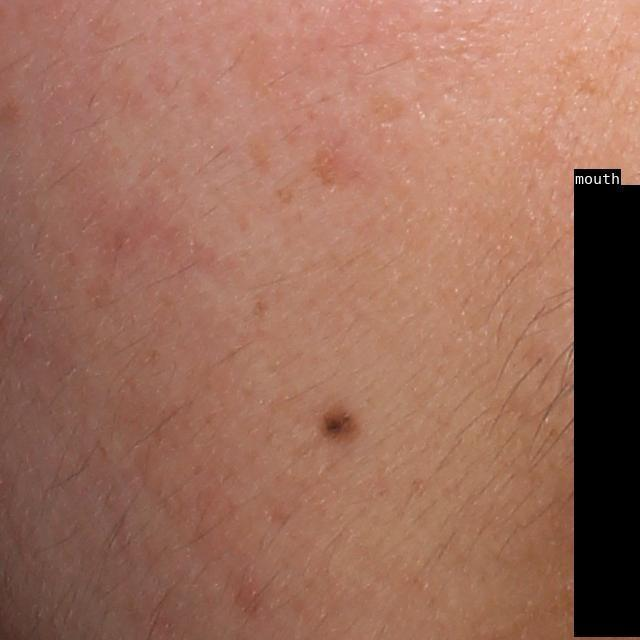nevus: (319, 400, 359, 446)
